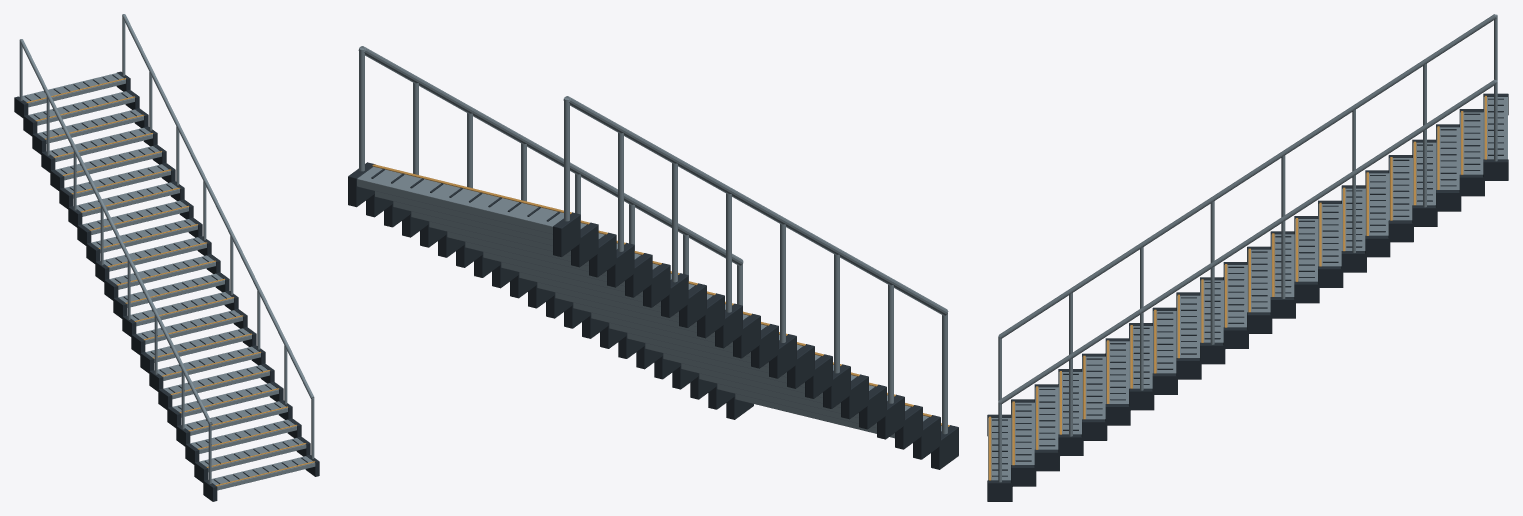
The model's file is SM_Lab_StairFlight.fbx.
3 views of the same model, side by side, from view 1: azimuth 30°, elevation 25°; view 2: azimuth 150°, elevation 25°; view 3: azimuth 270°, elevation 25° (orthographic). The views are drawn at different scales.
Parts seen in each view (by area): view 1: SM_Lab_StairFlight; view 2: SM_Lab_StairFlight; view 3: SM_Lab_StairFlight.
Boxes of the visible parts, box(x1,y1,x2,y2) form: SM_Lab_StairFlight: box(14, 14, 319, 501); SM_Lab_StairFlight: box(348, 46, 958, 469); SM_Lab_StairFlight: box(987, 14, 1508, 501).
Size of the model in its own units: 192 by 618 by 551.
